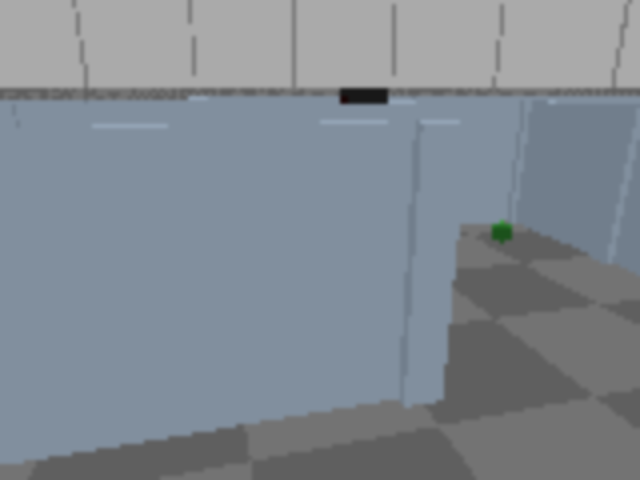puck: (486, 219, 519, 246)
